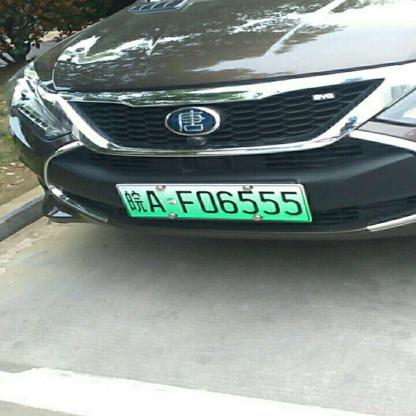lp: (116, 184, 310, 219)
